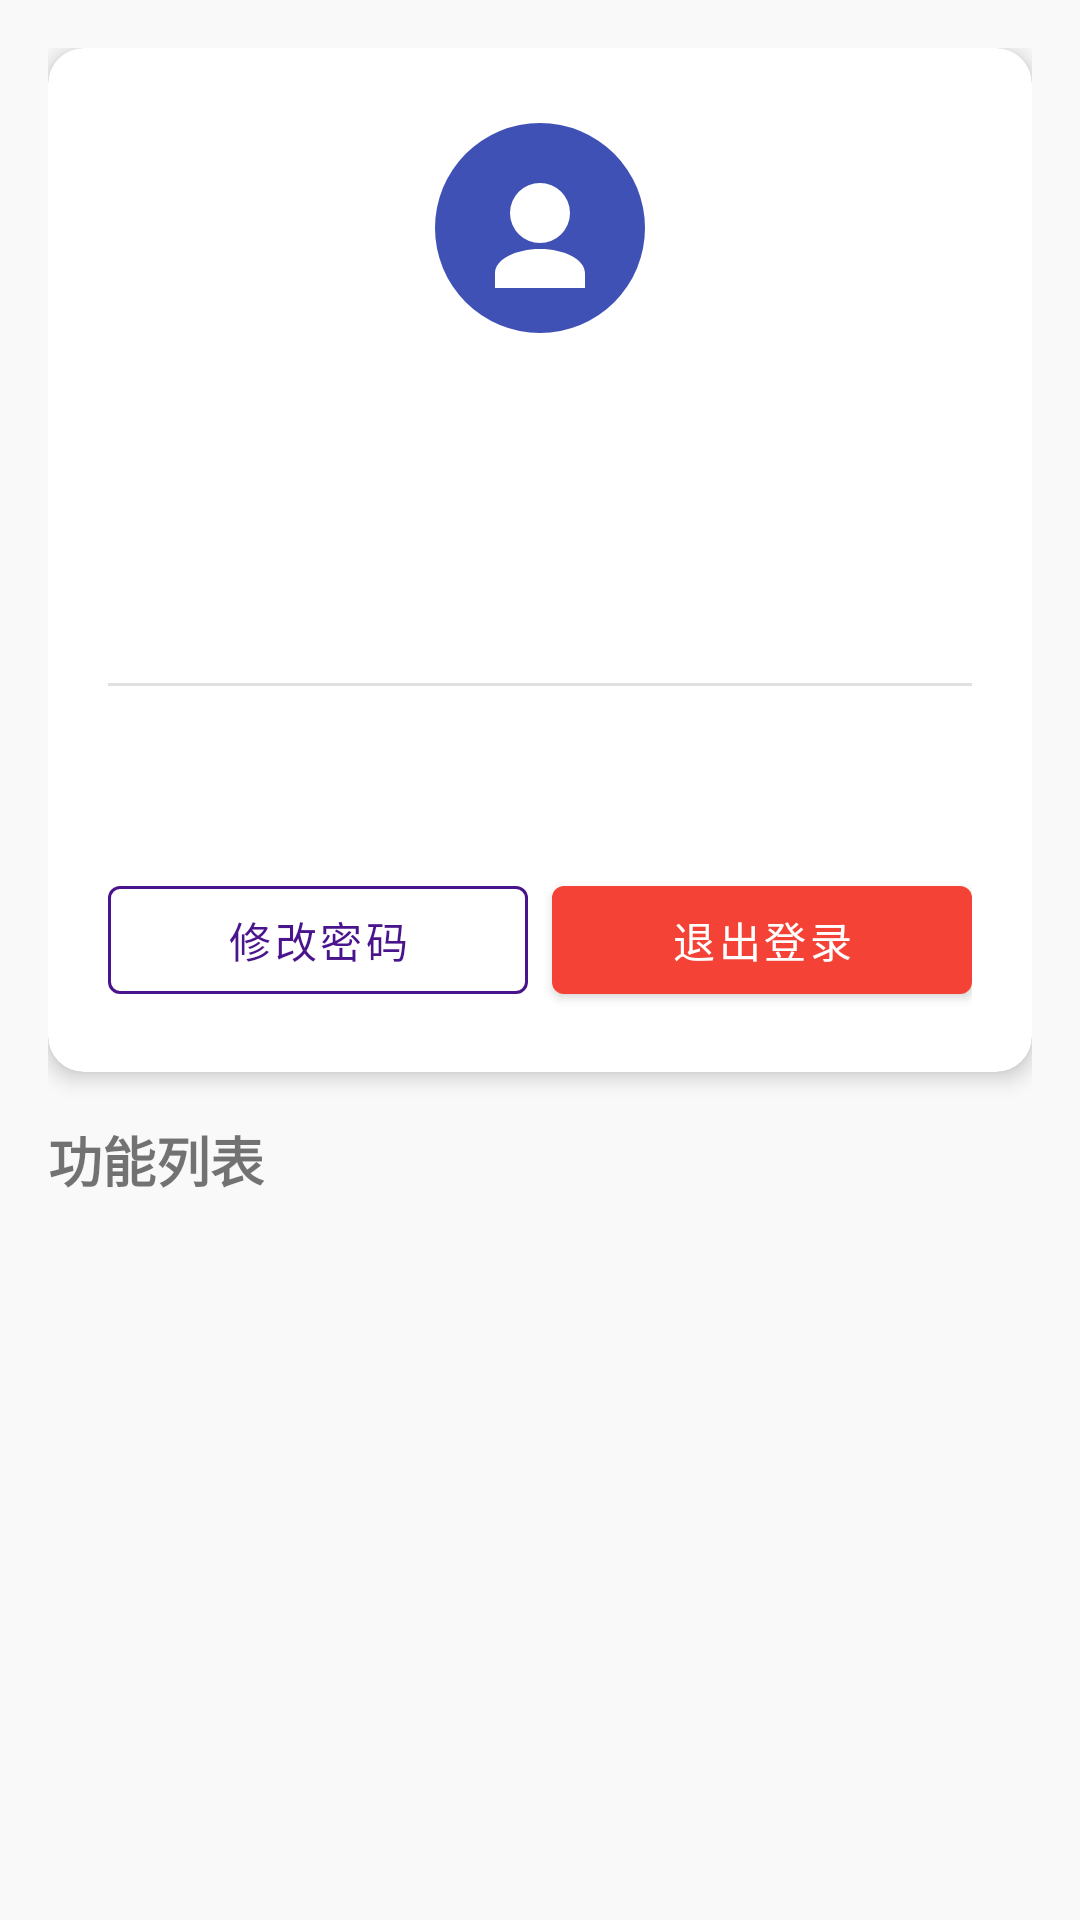

Screen size 1080w x 1920h. Icon name, then its box in pixels as [left=x1, top=y1, right=x2, bottom=y2]:
用户头像: [left=435, top=123, right=645, bottom=333]
